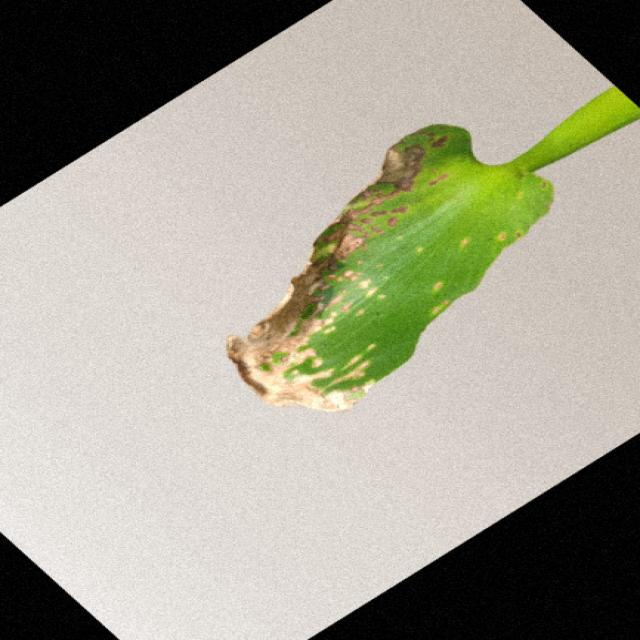daun berpenyakit bercak: (228, 88, 638, 411)
